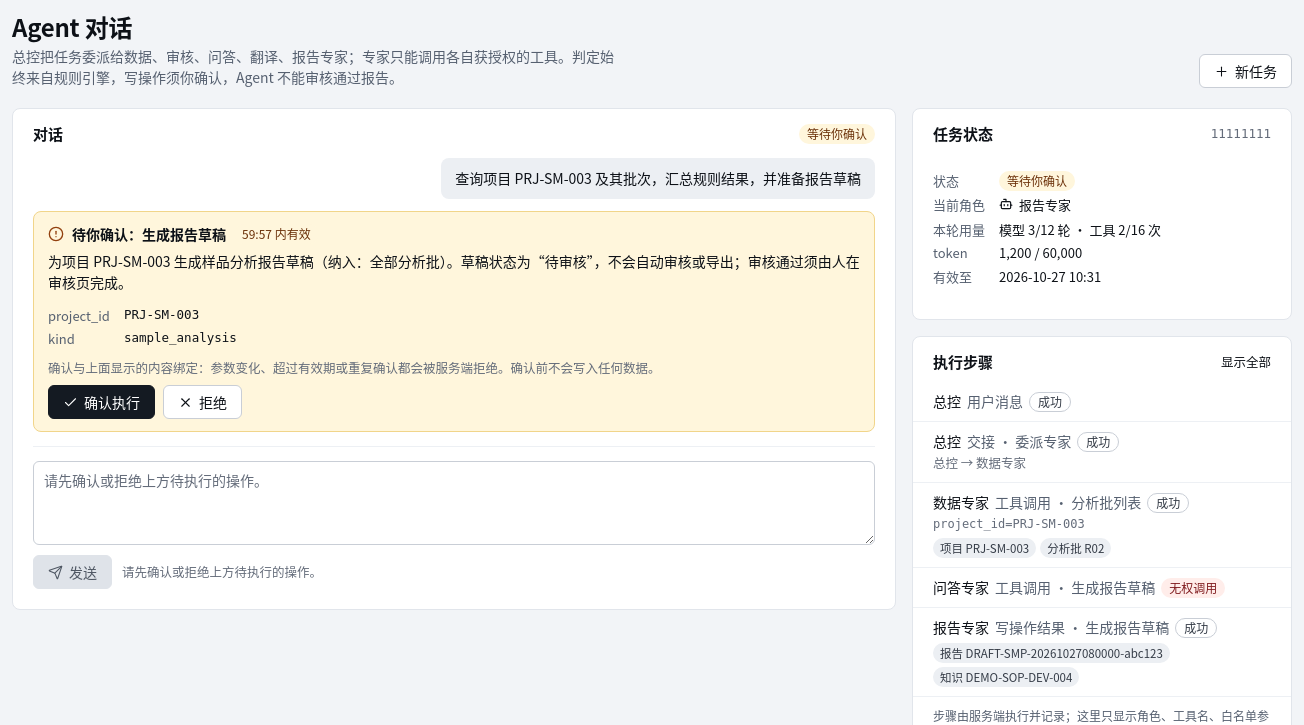
Agent 对话：待确认的写操作 › 审计不可用：明确说明操作未执行
Click the button "确认执行" at (102, 402), box [48,385,155,419]
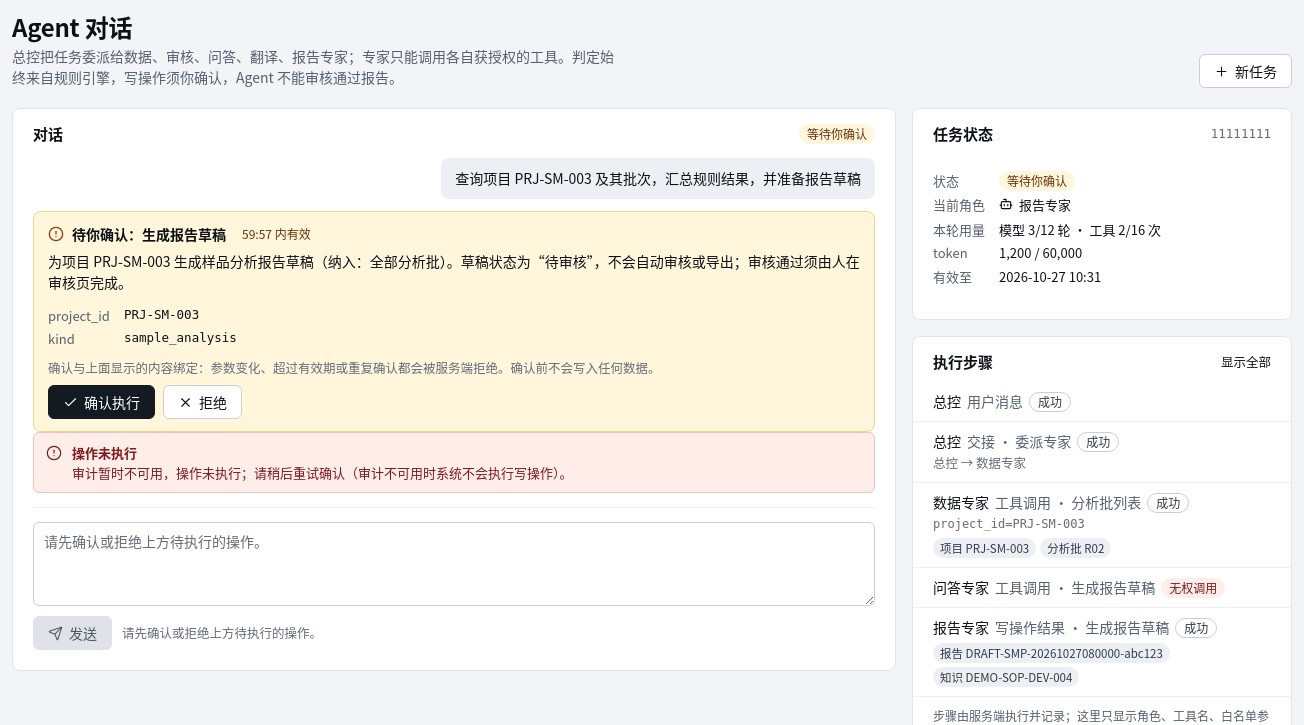
Expected: the text "操作未执行" is shown, [72,443,137,462]
